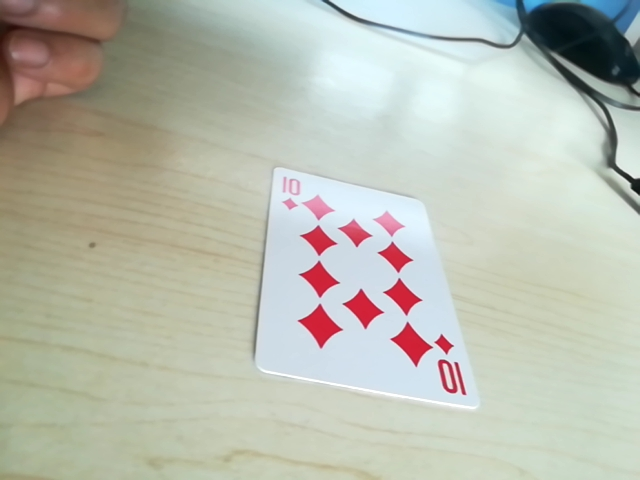fk 10: (425, 344, 467, 402), (274, 171, 316, 217)
